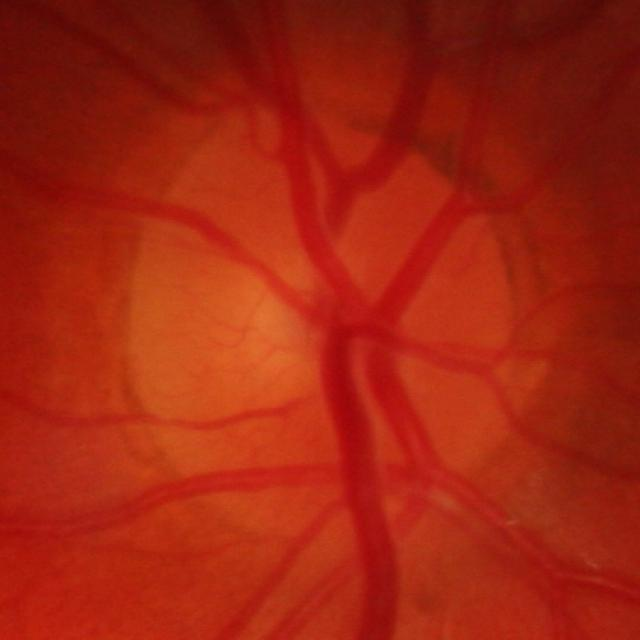OC: (231, 259, 338, 381)
OD: (128, 114, 521, 533)
